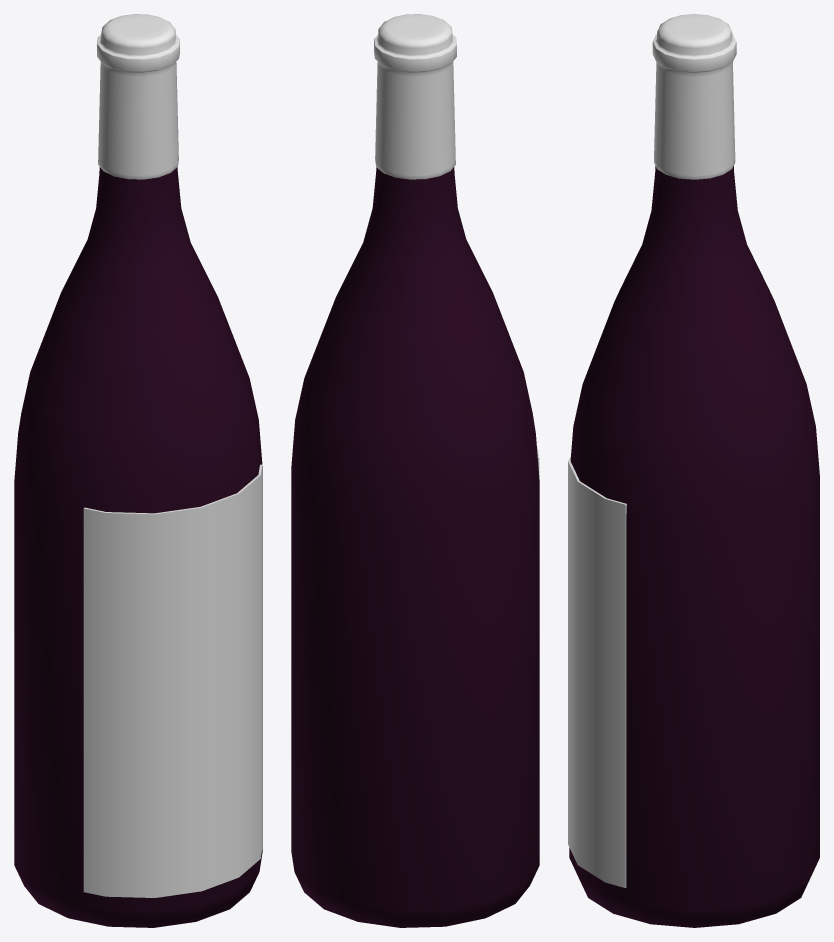
The model's file is MESH_Bottle_N.fbx.
3 renders of one model, left to right at view 1: azimuth 30°, elevation 25°; view 2: azimuth 150°, elevation 25°; view 3: azimuth 270°, elevation 25°, orthographic.
Visible parts, largest first — view 1: Bottle_N; view 2: Bottle_N; view 3: Bottle_N.
Boxes of the visible parts, x1=… form: Bottle_N: x1=14, y1=14, x2=262, y2=927; Bottle_N: x1=291, y1=14, x2=539, y2=927; Bottle_N: x1=568, y1=14, x2=819, y2=927.
Bounding box in the file's own units: 19.21 × 72.89 × 19.31.
